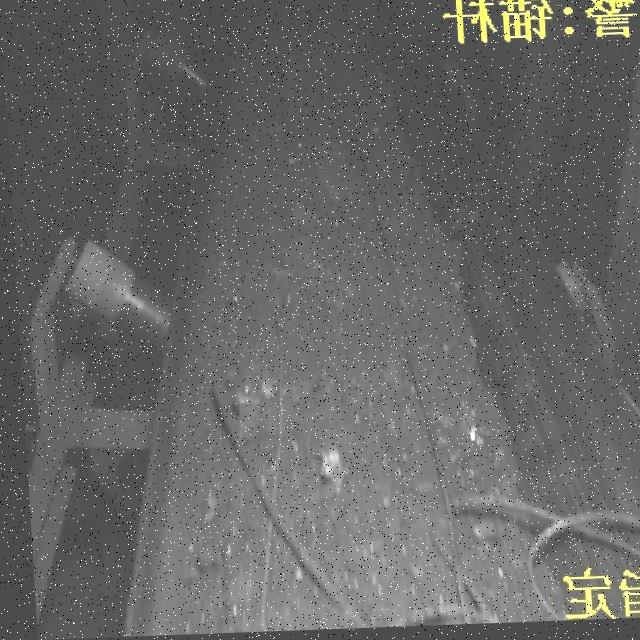bolt: (346, 124, 498, 630), (196, 383, 364, 635), (449, 487, 640, 628), (605, 374, 640, 623)
